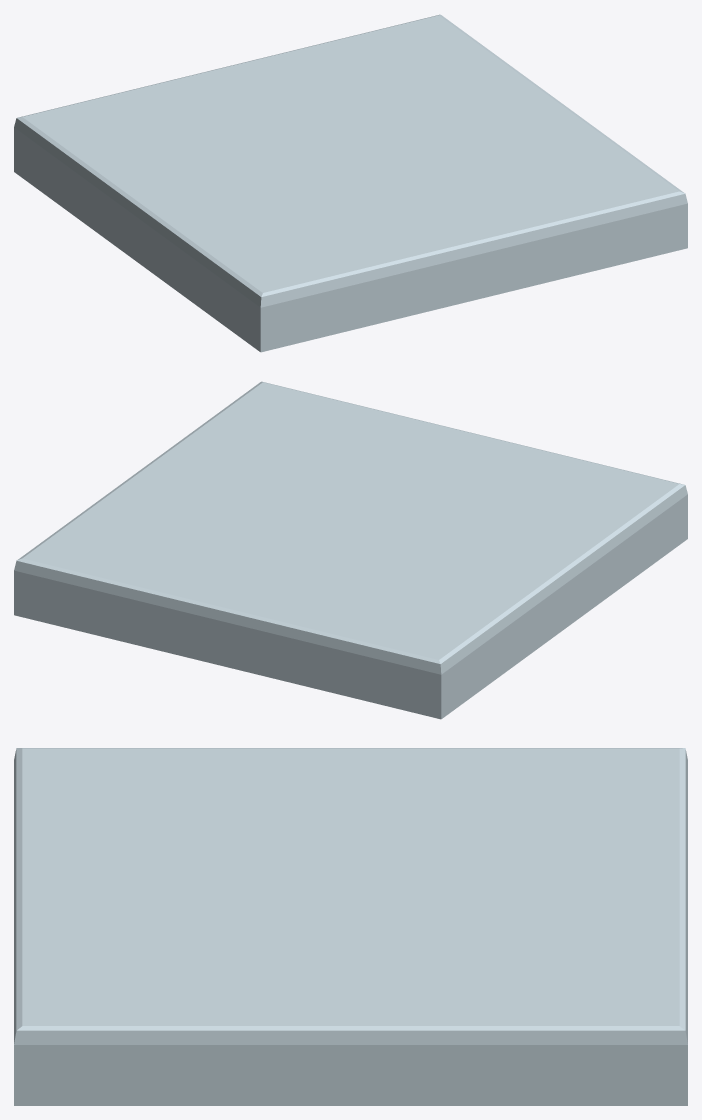
File: floor_tile_00_basic.glb
The picture shows the model from 3 angles, top to bottom: view 1: azimuth 30°, elevation 25°; view 2: azimuth 150°, elevation 25°; view 3: azimuth 270°, elevation 25°; orthographic projection. The views are drawn at different scales.
Parts seen in each view (by area): view 1: floor_tile_00_basic; view 2: floor_tile_00_basic; view 3: floor_tile_00_basic.
Part boxes in pixels (bbox=[...]): floor_tile_00_basic: bbox=[14, 14, 687, 352]; floor_tile_00_basic: bbox=[14, 381, 687, 719]; floor_tile_00_basic: bbox=[14, 748, 687, 1105].
Bounding box in the file's own units: 4 × 0.5 × 4.
